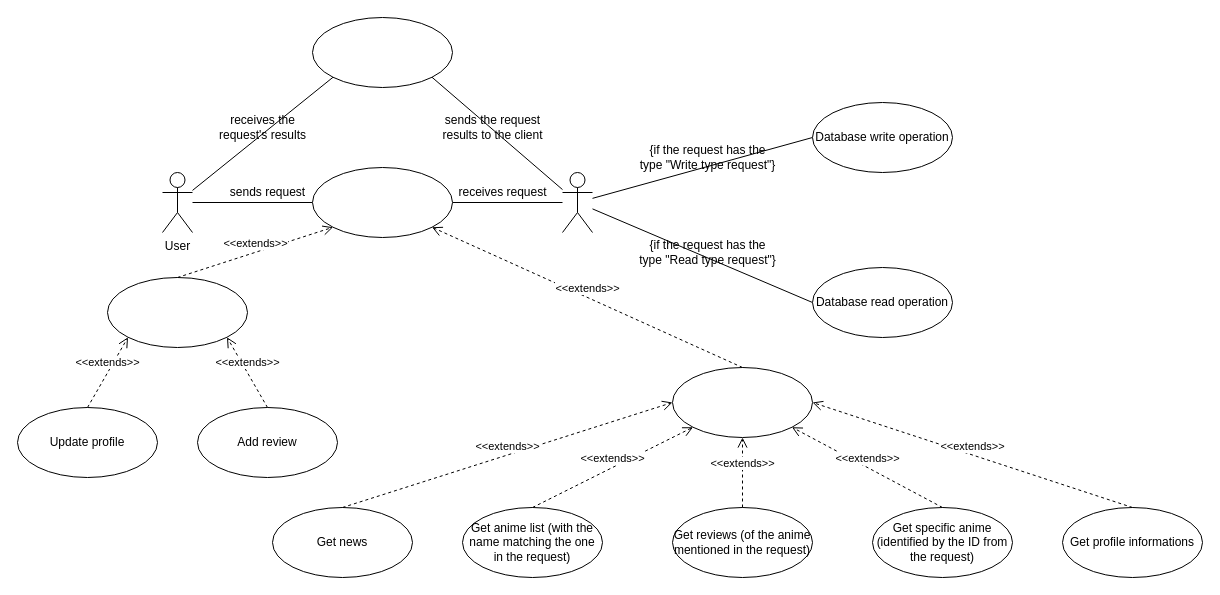
This 1220x595 diagram has some shape labels left out. Each missing label, with the box of its shape:
Read type request: (672, 366, 812, 438)
Request result: (312, 16, 452, 88)
Second phase request: (312, 166, 452, 238)
Server: (562, 172, 592, 232)
Write type request: (106, 276, 248, 348)
